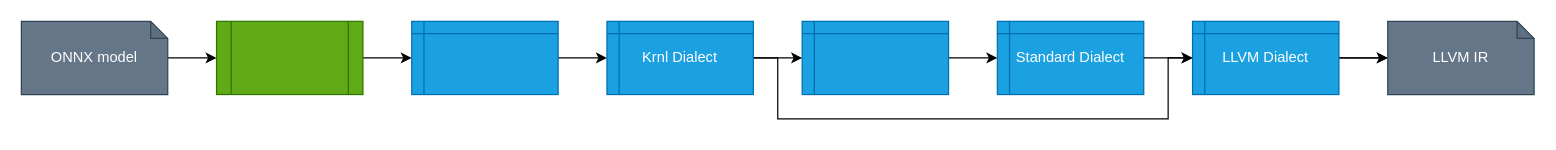
This 1556x150 diagram has some shape labels left out. Here are the shapes that lost their labels. From the top down, the centre of each, then its label:
the point at 289,57: ONNX parser
the point at 484,57: ONNX Dialect
the point at 875,57: Affine Dialect
